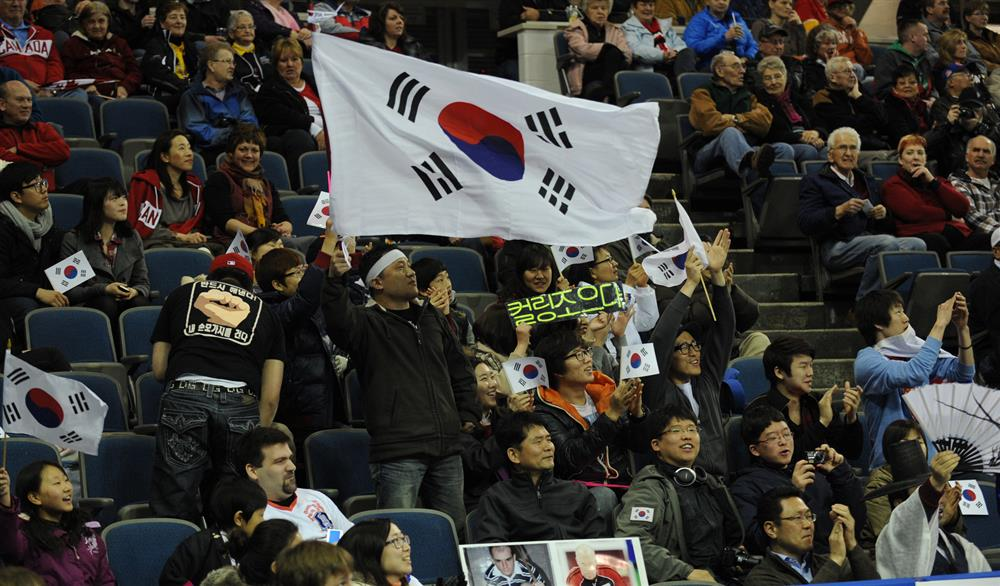Korean_flag: (365, 56, 600, 222)
